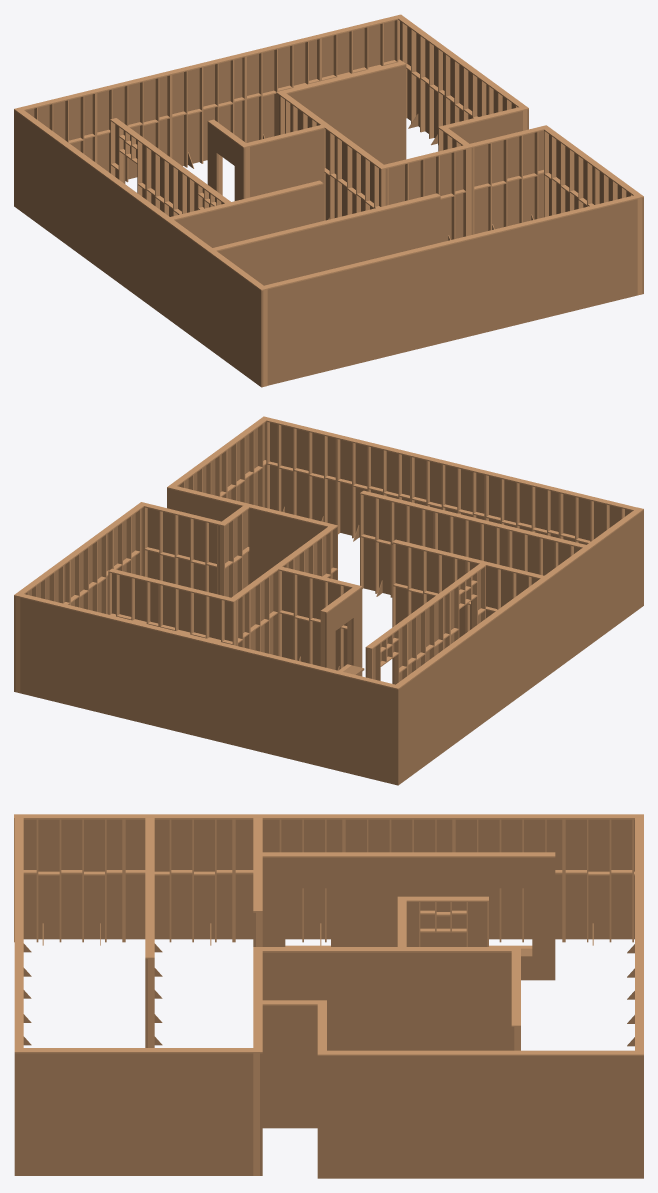
File: Killhouse Top Floor Walls.fbx
3 renders of one model, top to bottom at view 1: azimuth 30°, elevation 25°; view 2: azimuth 150°, elevation 25°; view 3: azimuth 270°, elevation 25°, orthographic. The views are drawn at different scales.
Visible parts, largest first — view 1: Stud Wall 1.050, Stud Wall 1.048, Stud Wall 1.049, Stud Wall 1.052, Stud Wall 1.053, Stud Wall 1.060, Stud Wall 1.081, Stud Wall 1.062, Stud Wall 1.051, Stud Wall 1.055, Stud Wall 1.057, Stud Wall 1.054 (+44 smaller); view 2: Stud Wall 1.063, Stud Wall 1.065, Stud Wall 1.061, Stud Wall 1.064, Stud Wall 1.062, Stud Wall 1.053, Stud Wall 1.057, Stud Wall 1.056, Stud Wall 1.055, Stud Wall 1.054, Stud Wall 1.051, Stud Wall 1.069 (+52 smaller); view 3: Stud Wall 1.058, Stud Wall 1.067, Stud Wall 1.059, Stud Wall 1.068, Stud Wall 1.054, Stud Wall 1.051, Stud Wall 1.077, Stud Wall 1.070, Stud Wall 1.066, Stud Wall 1.084, Stud Wall 1.055, Stud Wall 1.076 (+27 smaller).
Boxes of the visible parts, x1,y1,x2,y2 form: Stud Wall 1.050: (267, 271, 342, 385); Stud Wall 1.048: (342, 253, 417, 367); Stud Wall 1.049: (417, 235, 491, 349); Stud Wall 1.052: (492, 216, 566, 330); Stud Wall 1.053: (567, 199, 637, 312); Stud Wall 1.060: (474, 130, 543, 234); Stud Wall 1.081: (354, 65, 406, 164); Stud Wall 1.062: (172, 58, 242, 168); Stud Wall 1.051: (218, 260, 263, 387); Stud Wall 1.055: (131, 196, 174, 323); Stud Wall 1.057: (45, 133, 88, 260); Stud Wall 1.054: (175, 228, 218, 355); Stud Wall 1.063: (20, 598, 97, 711); Stud Wall 1.065: (320, 671, 396, 784); Stud Wall 1.061: (97, 616, 171, 730); Stud Wall 1.064: (246, 653, 320, 766); Stud Wall 1.062: (171, 635, 245, 748); Stud Wall 1.053: (270, 422, 335, 524); Stud Wall 1.057: (429, 636, 472, 762); Stud Wall 1.056: (472, 604, 515, 730); Stud Wall 1.055: (515, 573, 558, 699); Stud Wall 1.054: (558, 542, 600, 667); Stud Wall 1.051: (601, 510, 643, 636); Stud Wall 1.069: (147, 508, 216, 593); Stud Wall 1.058: (124, 1053, 253, 1175); Stud Wall 1.067: (515, 1056, 643, 1178); Stud Wall 1.059: (14, 1053, 124, 1175); Stud Wall 1.068: (405, 1056, 514, 1178); Stud Wall 1.054: (125, 819, 232, 945); Stud Wall 1.051: (23, 819, 122, 945); Stud Wall 1.077: (366, 952, 479, 1050); Stud Wall 1.070: (317, 1056, 404, 1178); Stud Wall 1.066: (565, 819, 634, 945); Stud Wall 1.084: (354, 857, 463, 946); Stud Wall 1.055: (235, 819, 342, 945); Stud Wall 1.076: (262, 952, 366, 1050).
Size of the model in its own units: 1051 by 253 by 1164.
